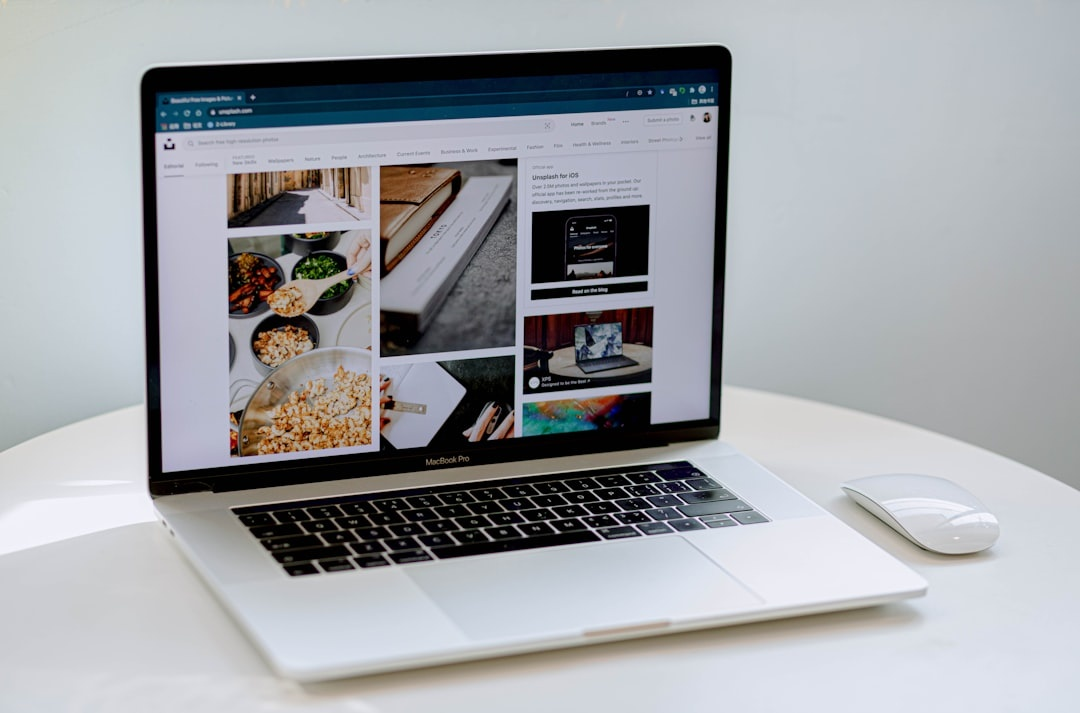laptop: (108, 36, 955, 694)
